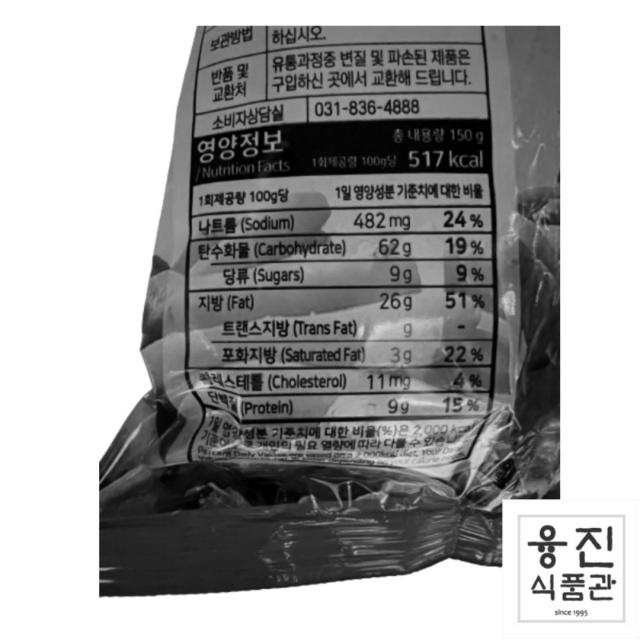Nutrition Label: (175, 111, 507, 434)
